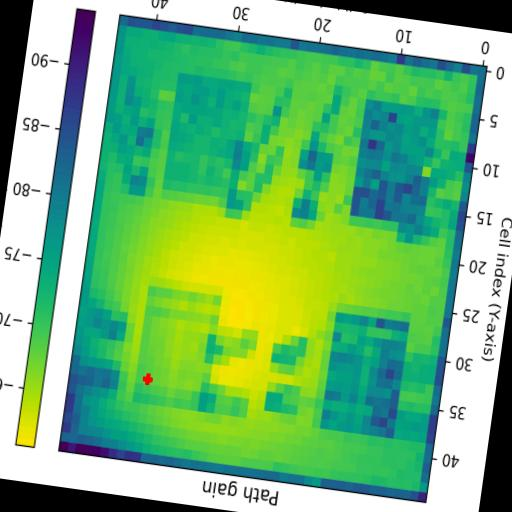Concrete: (132, 286, 221, 411)
Glass: (320, 312, 410, 439)
Metal: (160, 72, 251, 208)
Wood: (348, 98, 440, 226)
